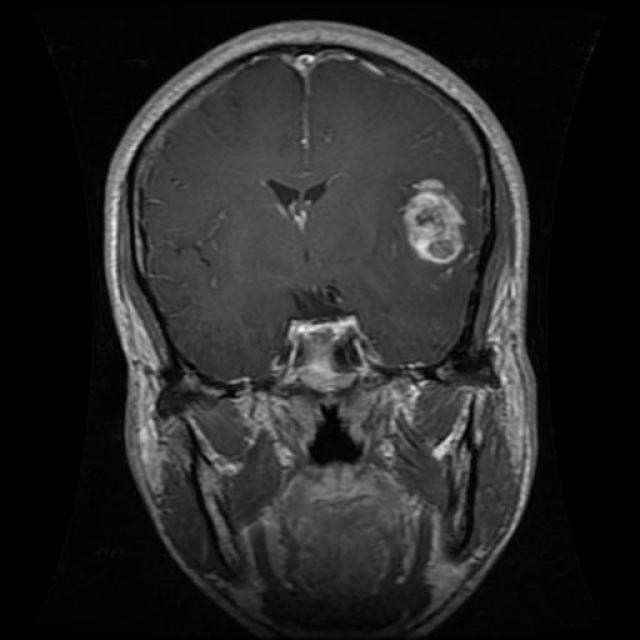glioma: (400, 180, 471, 281)
